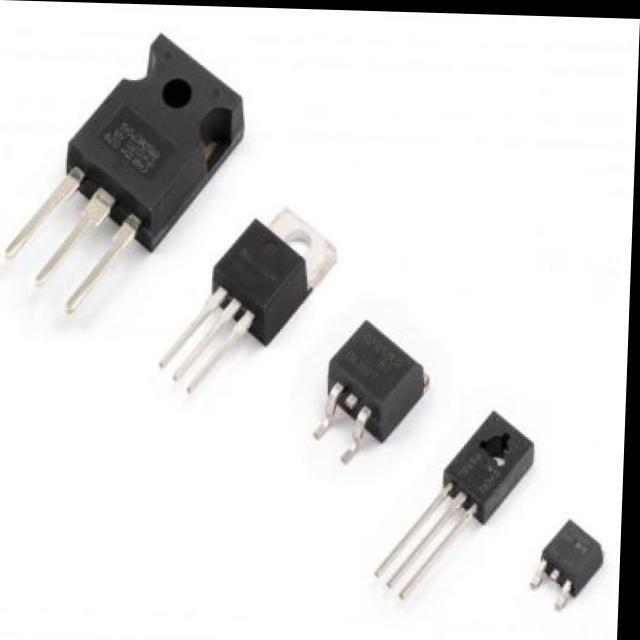Transistor: (66, 33, 246, 252), (315, 316, 433, 464), (213, 207, 339, 345), (445, 408, 539, 521), (536, 516, 610, 601)
